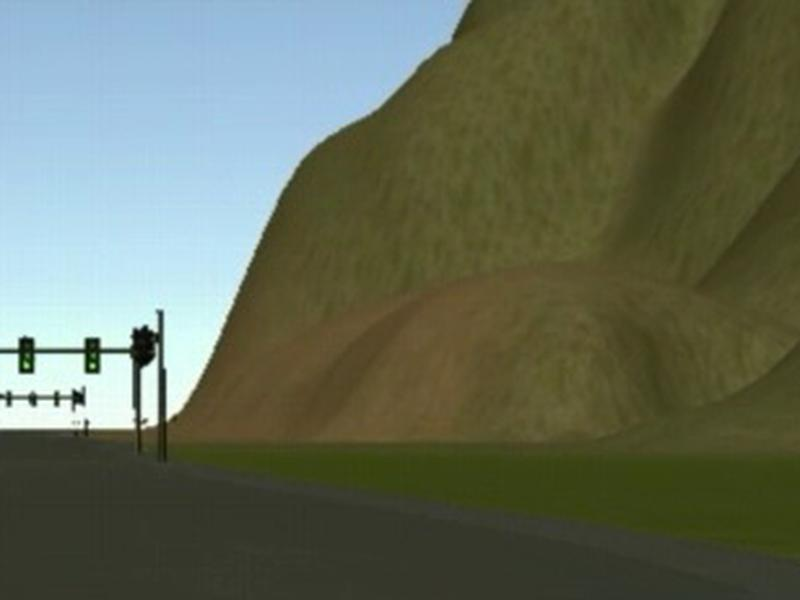Green: (84, 336, 99, 373), (19, 336, 34, 373)
